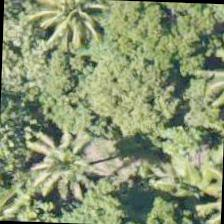Kelapa_Sawit: (20, 121, 113, 214), (23, 0, 116, 64)
